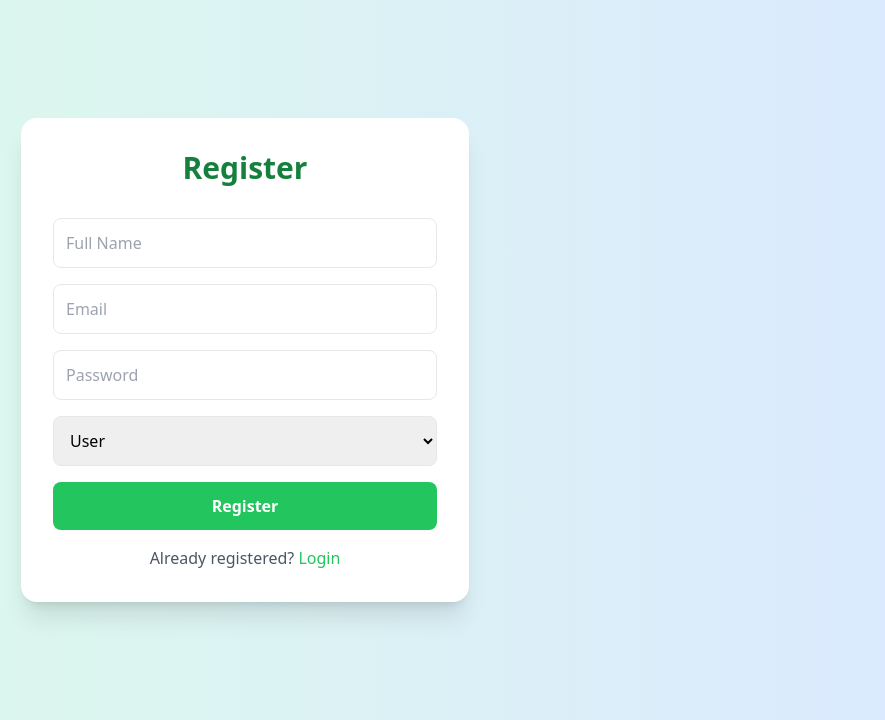
Test: Auth Flow - Red › shows error if registration fields are empty
This screenshot has width=885, height=720.
Click the button "Register" at {"x": 245, "y": 506}, box [53,482,437,530]
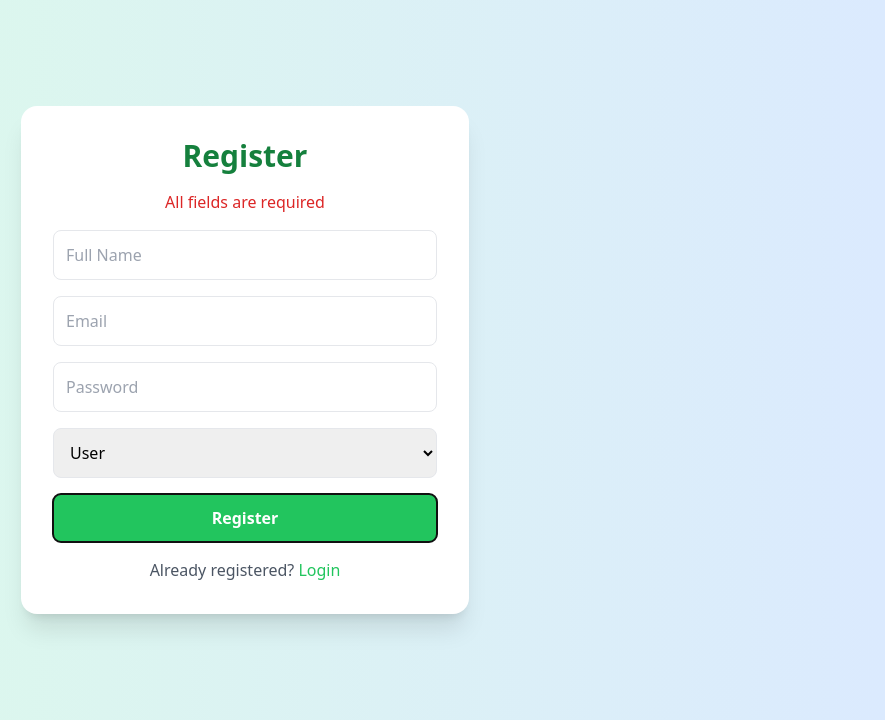
Result: the message reads "All fields are required" at [165,191,325,213]
